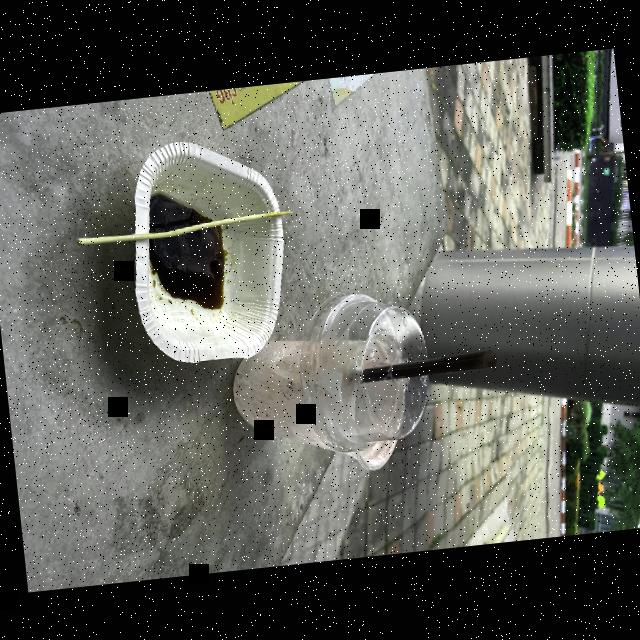cardboard_bowl: (109, 121, 310, 387)
plastic_cup: (226, 318, 408, 492)
plastic_cup_lid: (314, 282, 444, 452)
stick: (74, 198, 288, 261)
straw: (328, 350, 500, 390)
